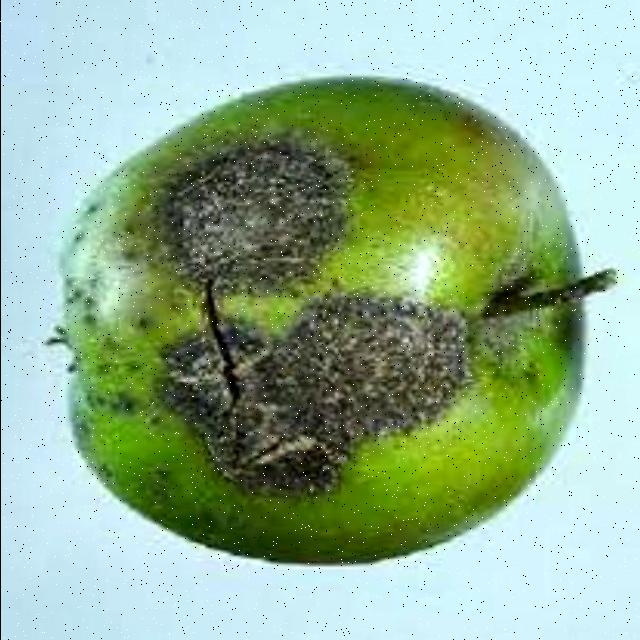SCAB: (38, 81, 608, 571)
